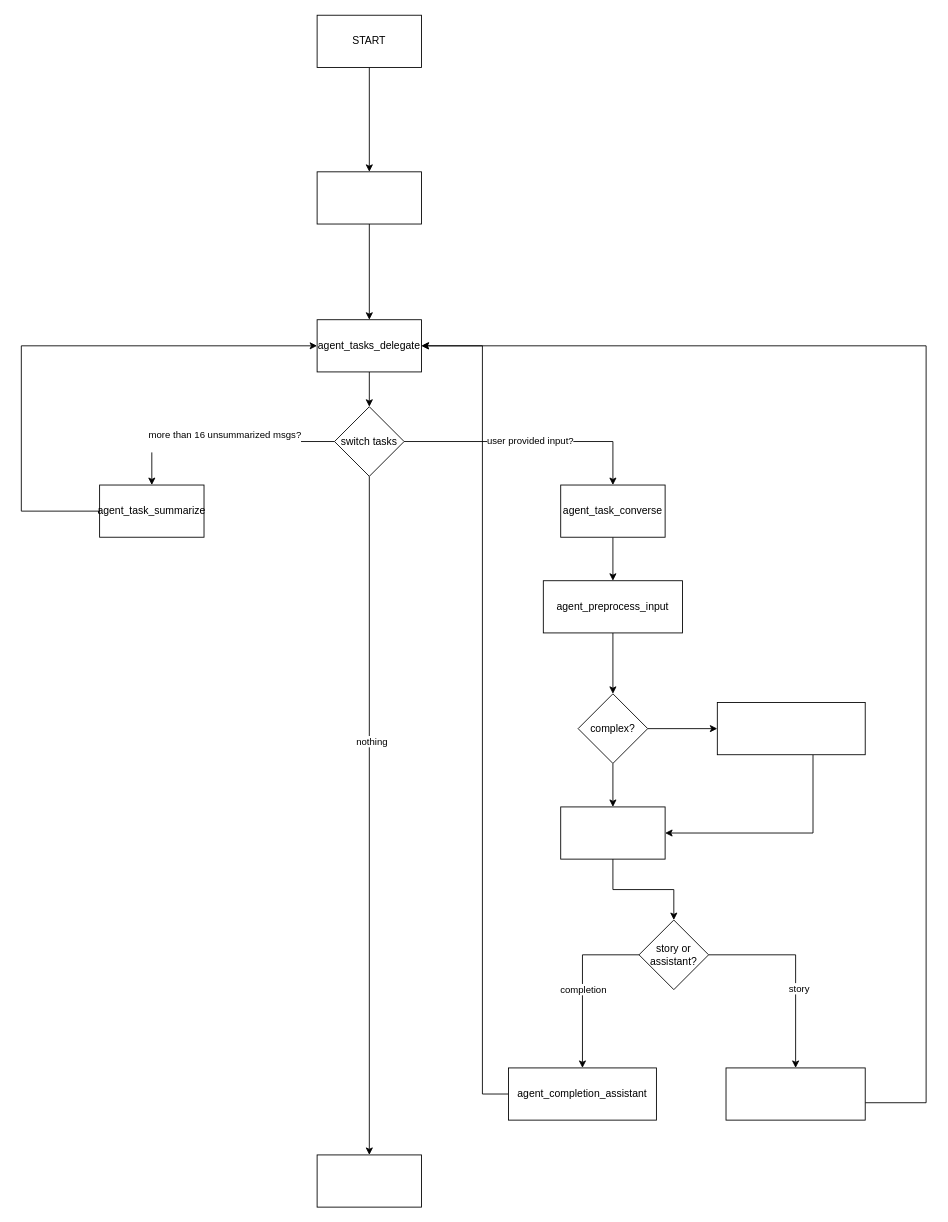
This 948x1222 diagram has some shape labels left out. The shapes that lost their labels are listed below. From the top down, each one's centre as x and y in pixels, then its label:
At [369,197]: "tasks_create".
At [790,728]: "agent_generate_thought".
At [612,832]: "agent_completion".
At [795,1093]: "agent_completion_story".
At [369,1180]: "END".
